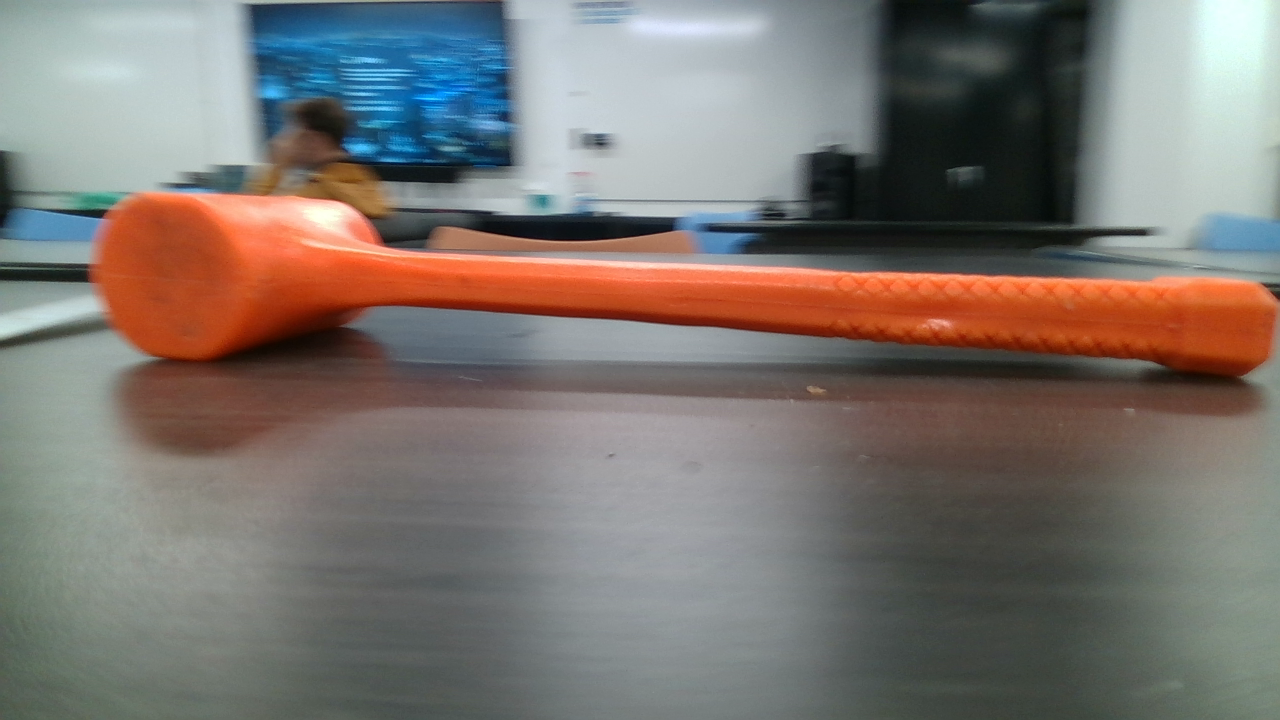Orange Hammer: (90, 192, 1280, 377)
